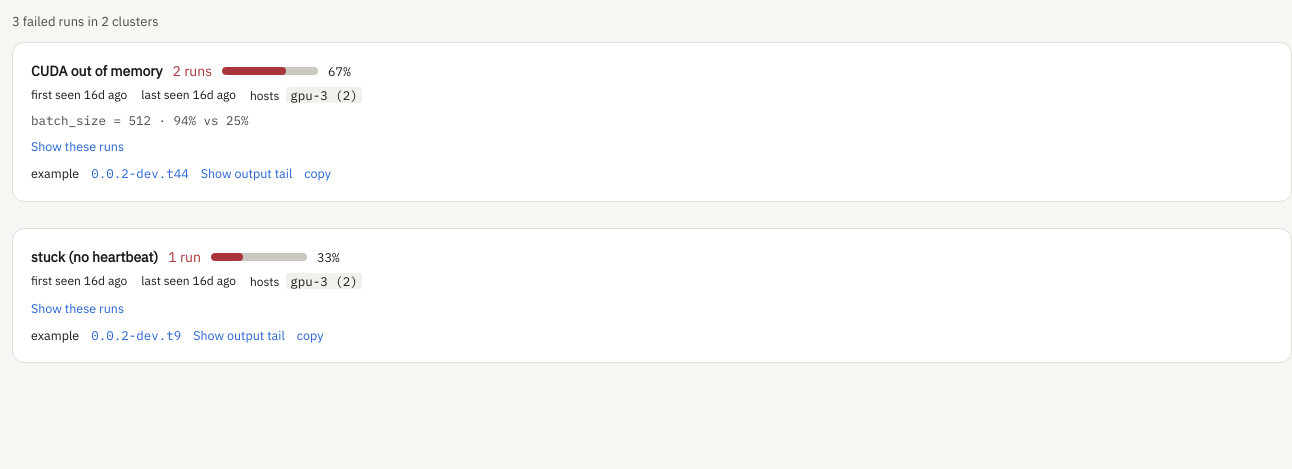
Test: job failures › loads the example's output tail only when expanded
The width and height of the screenshot is (1292, 469).
Expected: the text "CUDA out of memory" is shown, [31,60,162,82]
Click the button "Show output tail" next to "0.0.2-dev.t44".
click(246, 173)  # box [201,165,292,181]
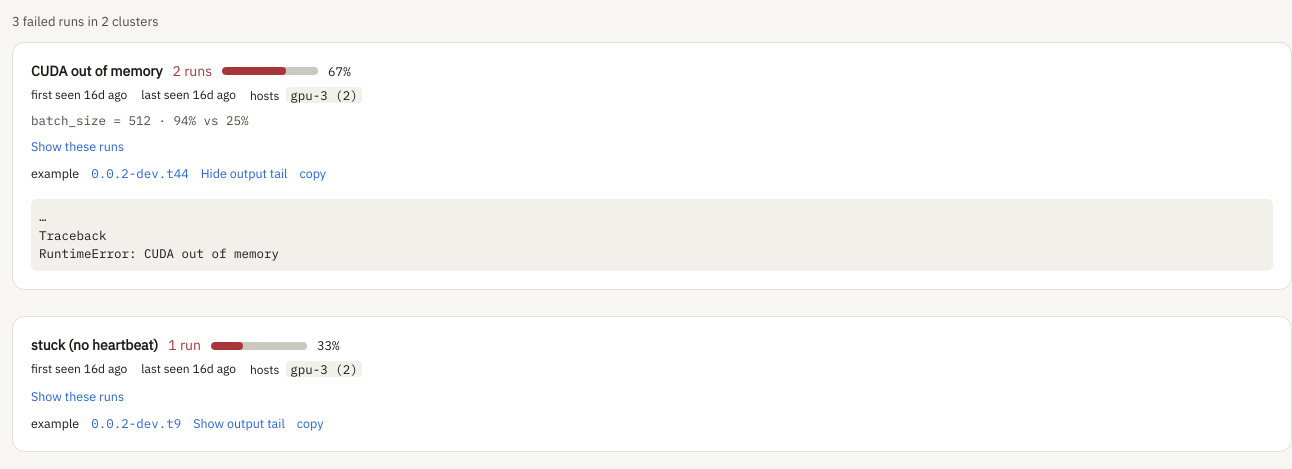
Expected: the text "… Traceback RuntimeError: CUDA out of memory" is shown, [31,199,1273,271]
Expected: the button "Hide output tail" is expanded, [201,165,288,181]
